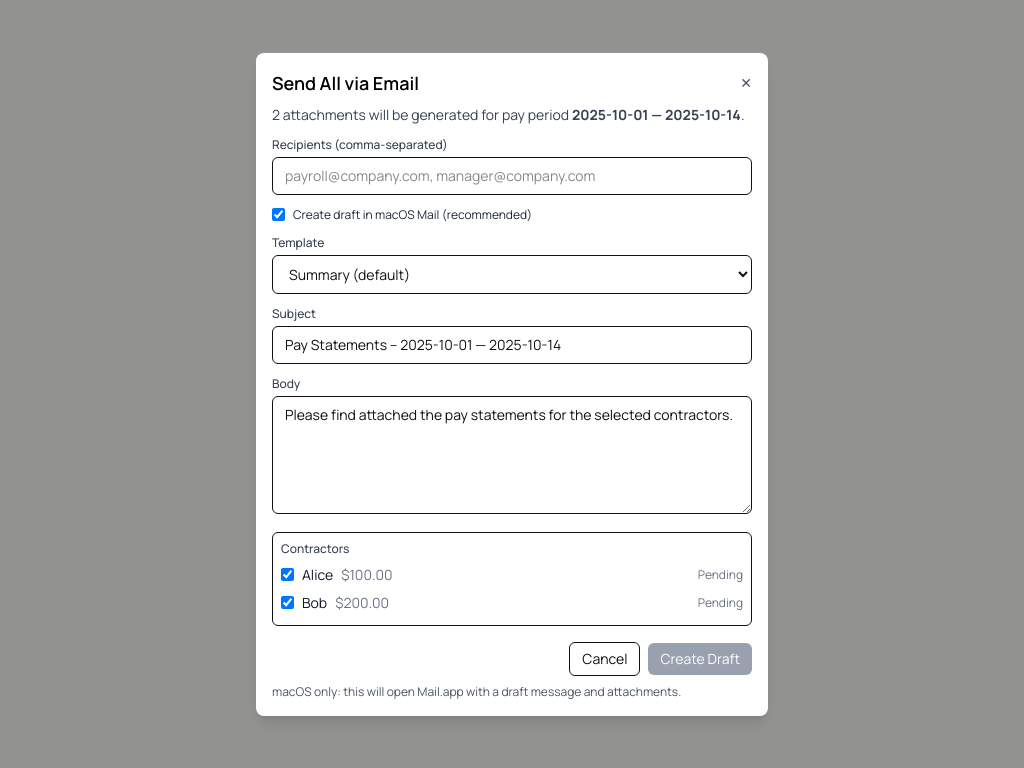
EmailAllModal › sends email with generated attachments
Type "payroll@example.com" into the field labelled "Recipients (comma-separated)".
click(512, 176); type("payroll@example.com")  # box x1=272 y1=156 x2=752 y2=194
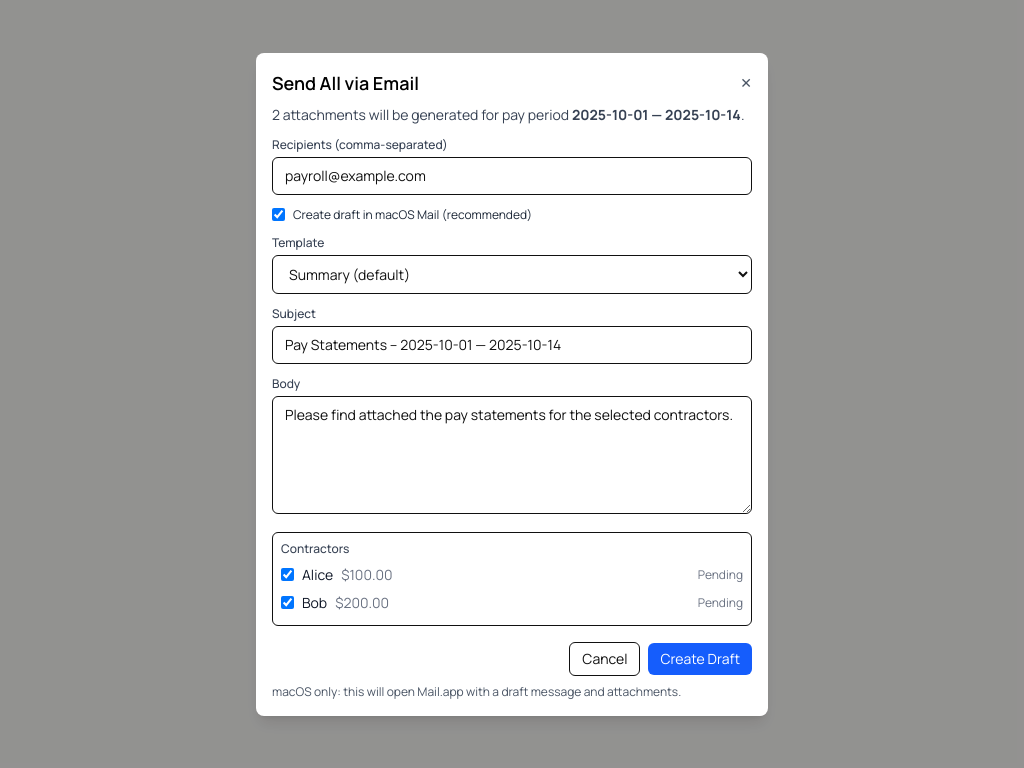
Replace the text in the field labelled "Subject" with "Subject" at (512, 344), box x1=272 y1=326 x2=752 y2=364
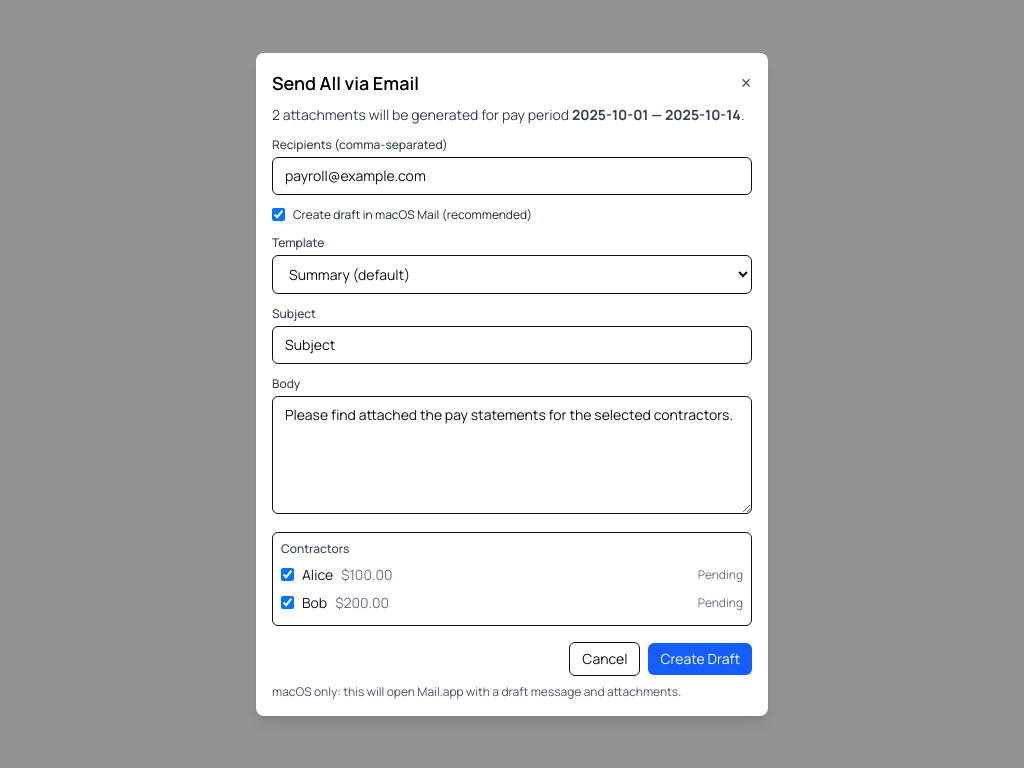
Replace the text in the text box labelled "Body" with "Body" at (512, 454), box x1=272 y1=396 x2=752 y2=514
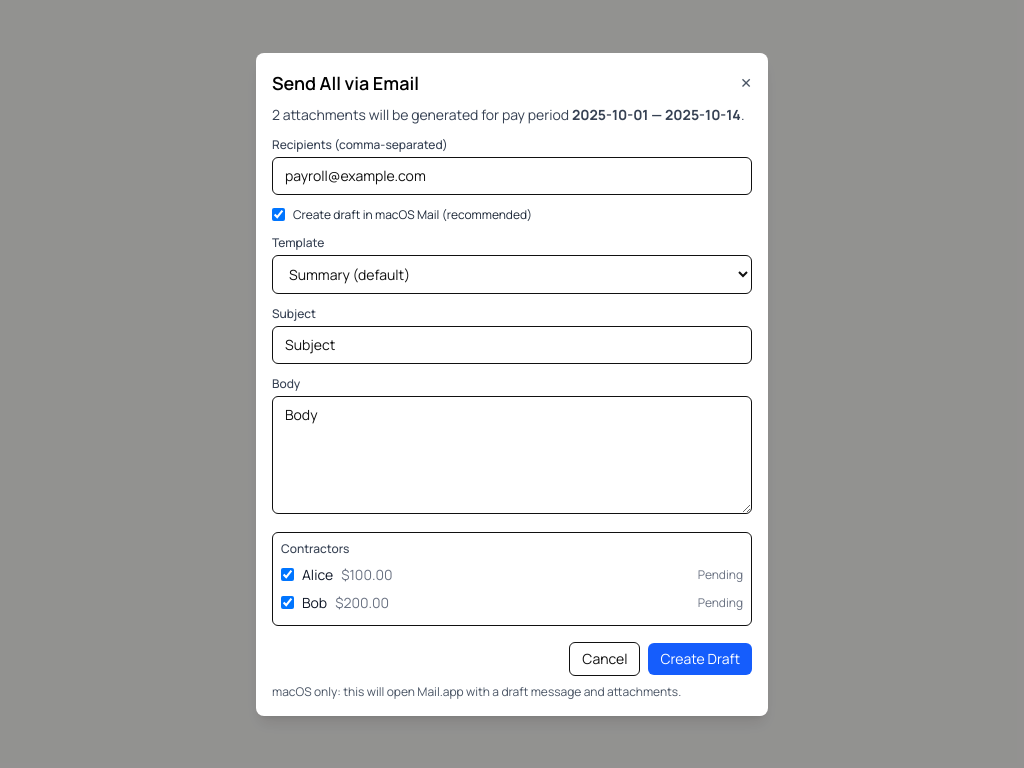
expect the button "Create Draft" is enabled: met
Click the button "Create Draft".
click(700, 658)  # box x1=648 y1=642 x2=752 y2=674
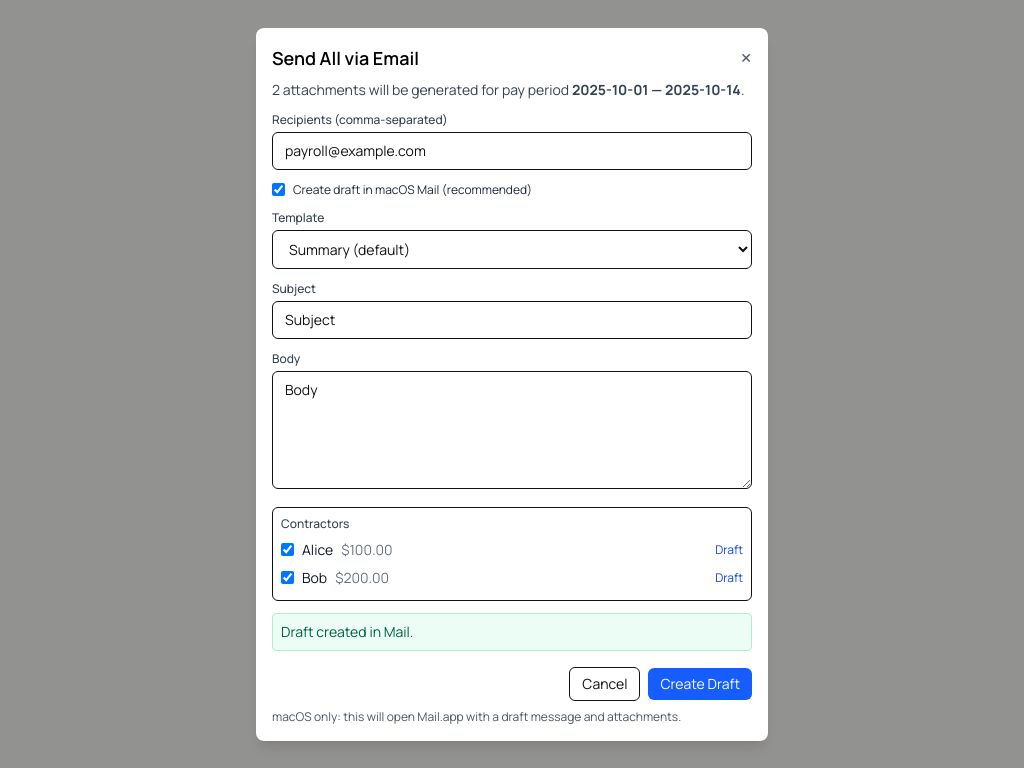
expect the text "Draft created in Mail." is shown: met, box x1=272 y1=612 x2=752 y2=650
